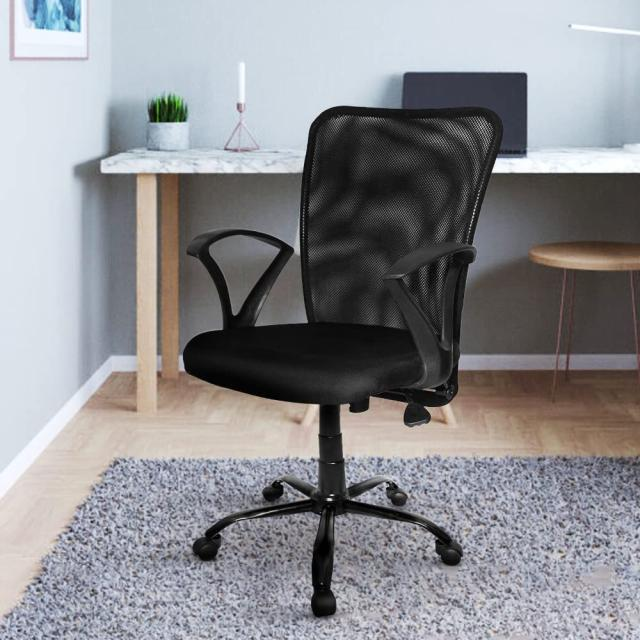chair: (151, 54, 569, 628)
